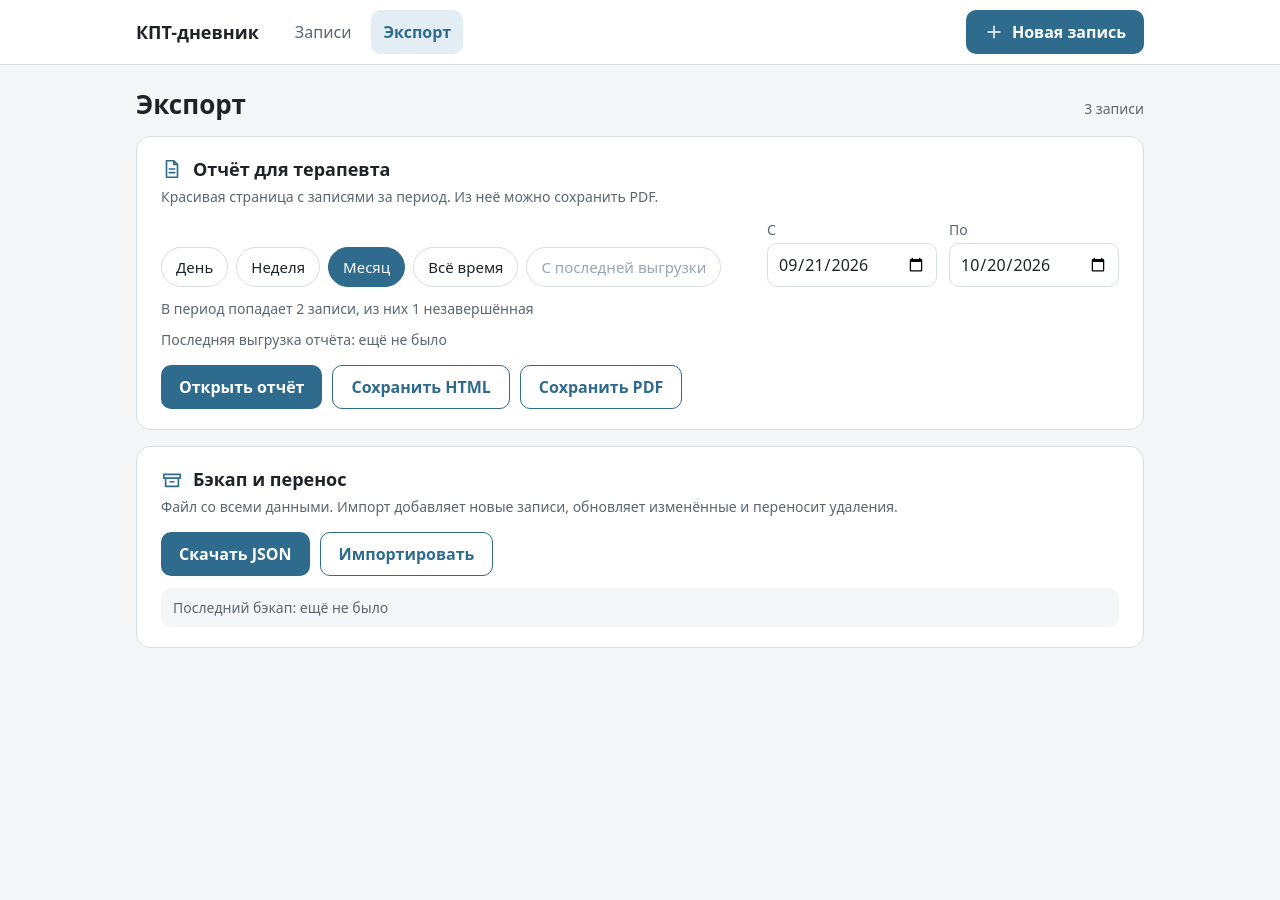
Scenario: counts entries in period
expect the text "3 записи" is shown: met, box [1084,99,1144,118]
expect the text "В период попадает 2 записи, из них 1 незавершённая" is shown: met, box [161,299,534,318]
Click the button "День". click: (195, 267)
box: [161,247,228,287]
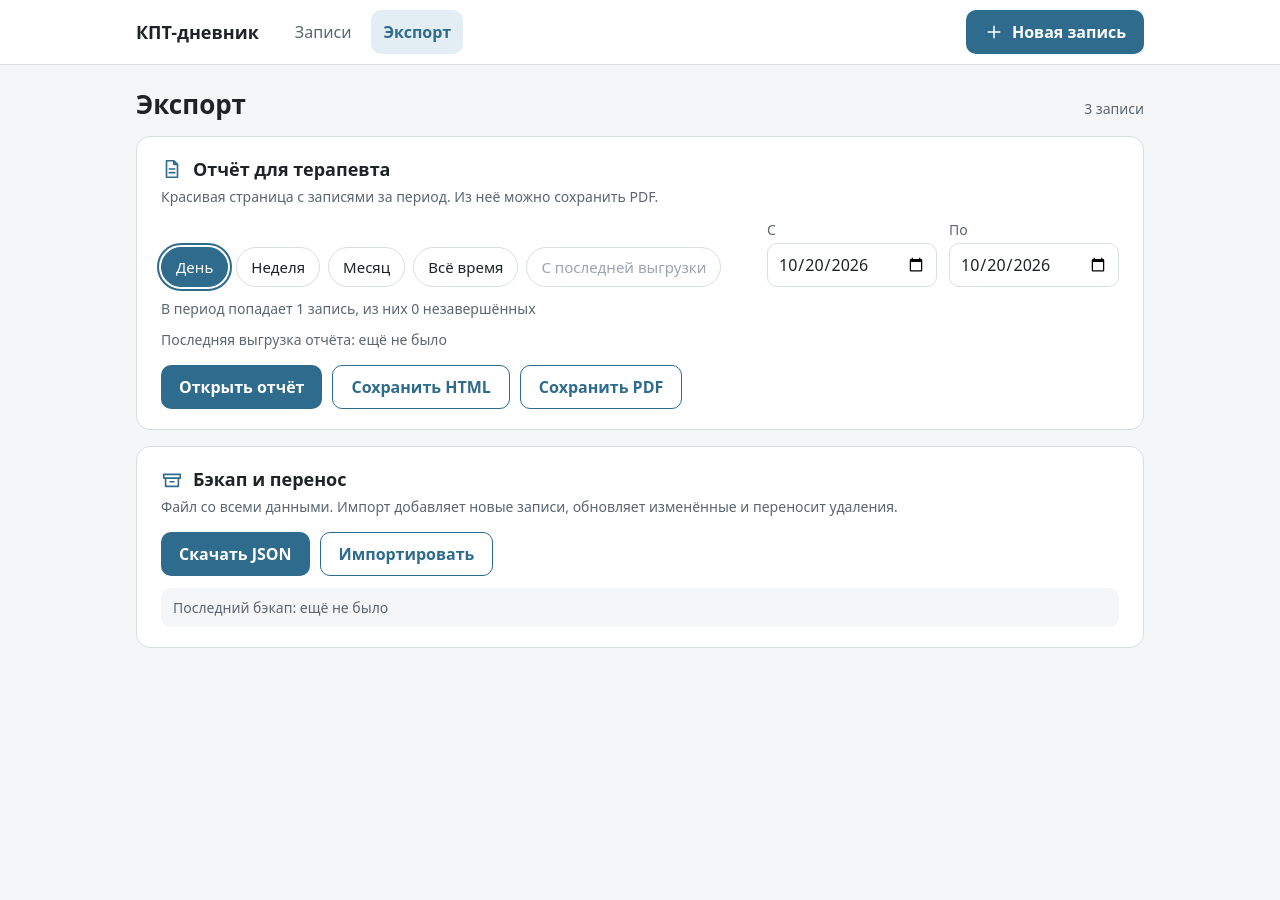
expect the text "В период попадает 1 запись, из них 0 незавершённых" is shown: met, box [161,299,536,318]
Click the button "Всё время". click: (466, 267)
box: [413,247,518,287]
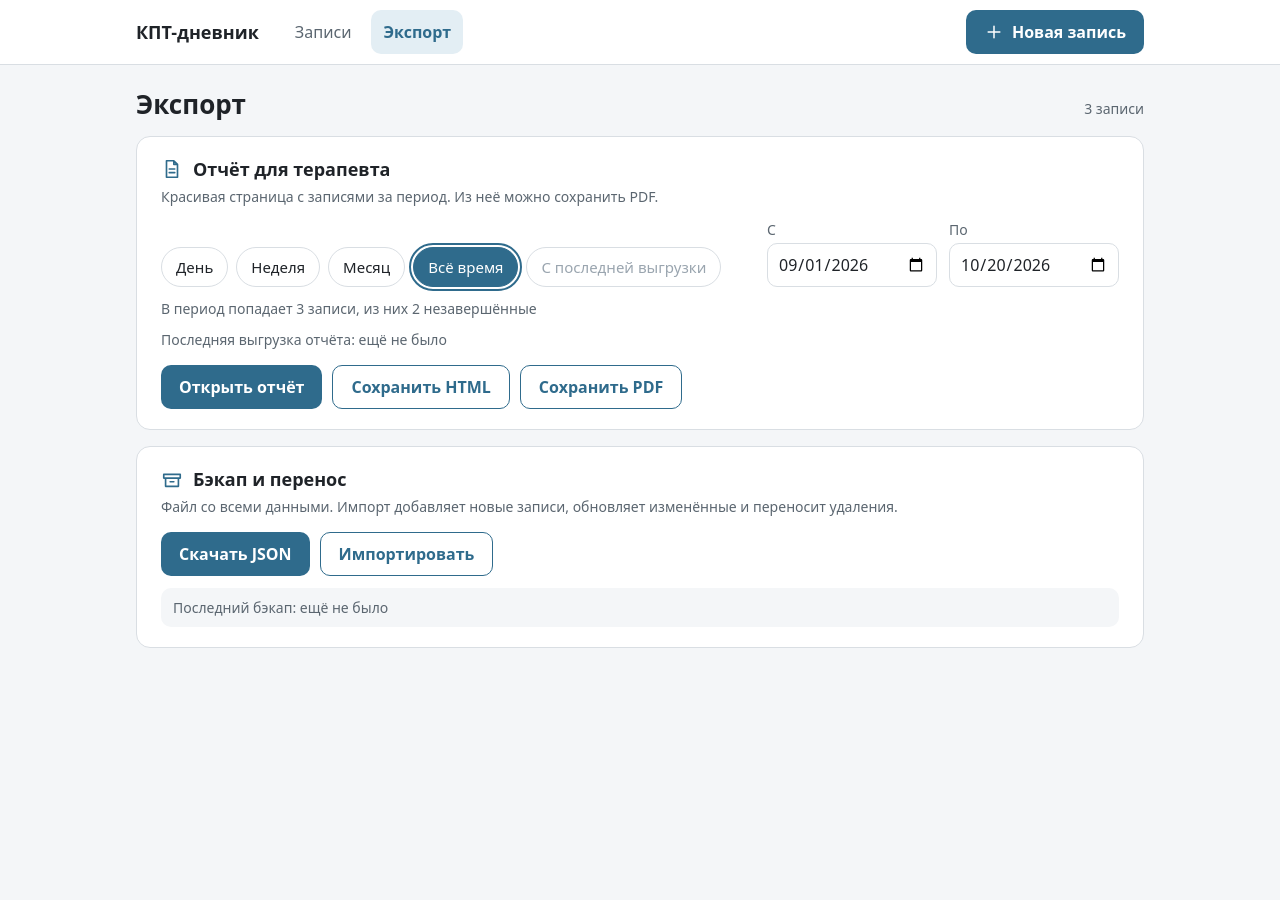
expect the date field labelled "С" holds "2026-09-01": met, box [767,243,937,287]
expect the text "В период попадает 3 записи, из них 2 незавершённые" is shown: met, box [161,299,537,318]
